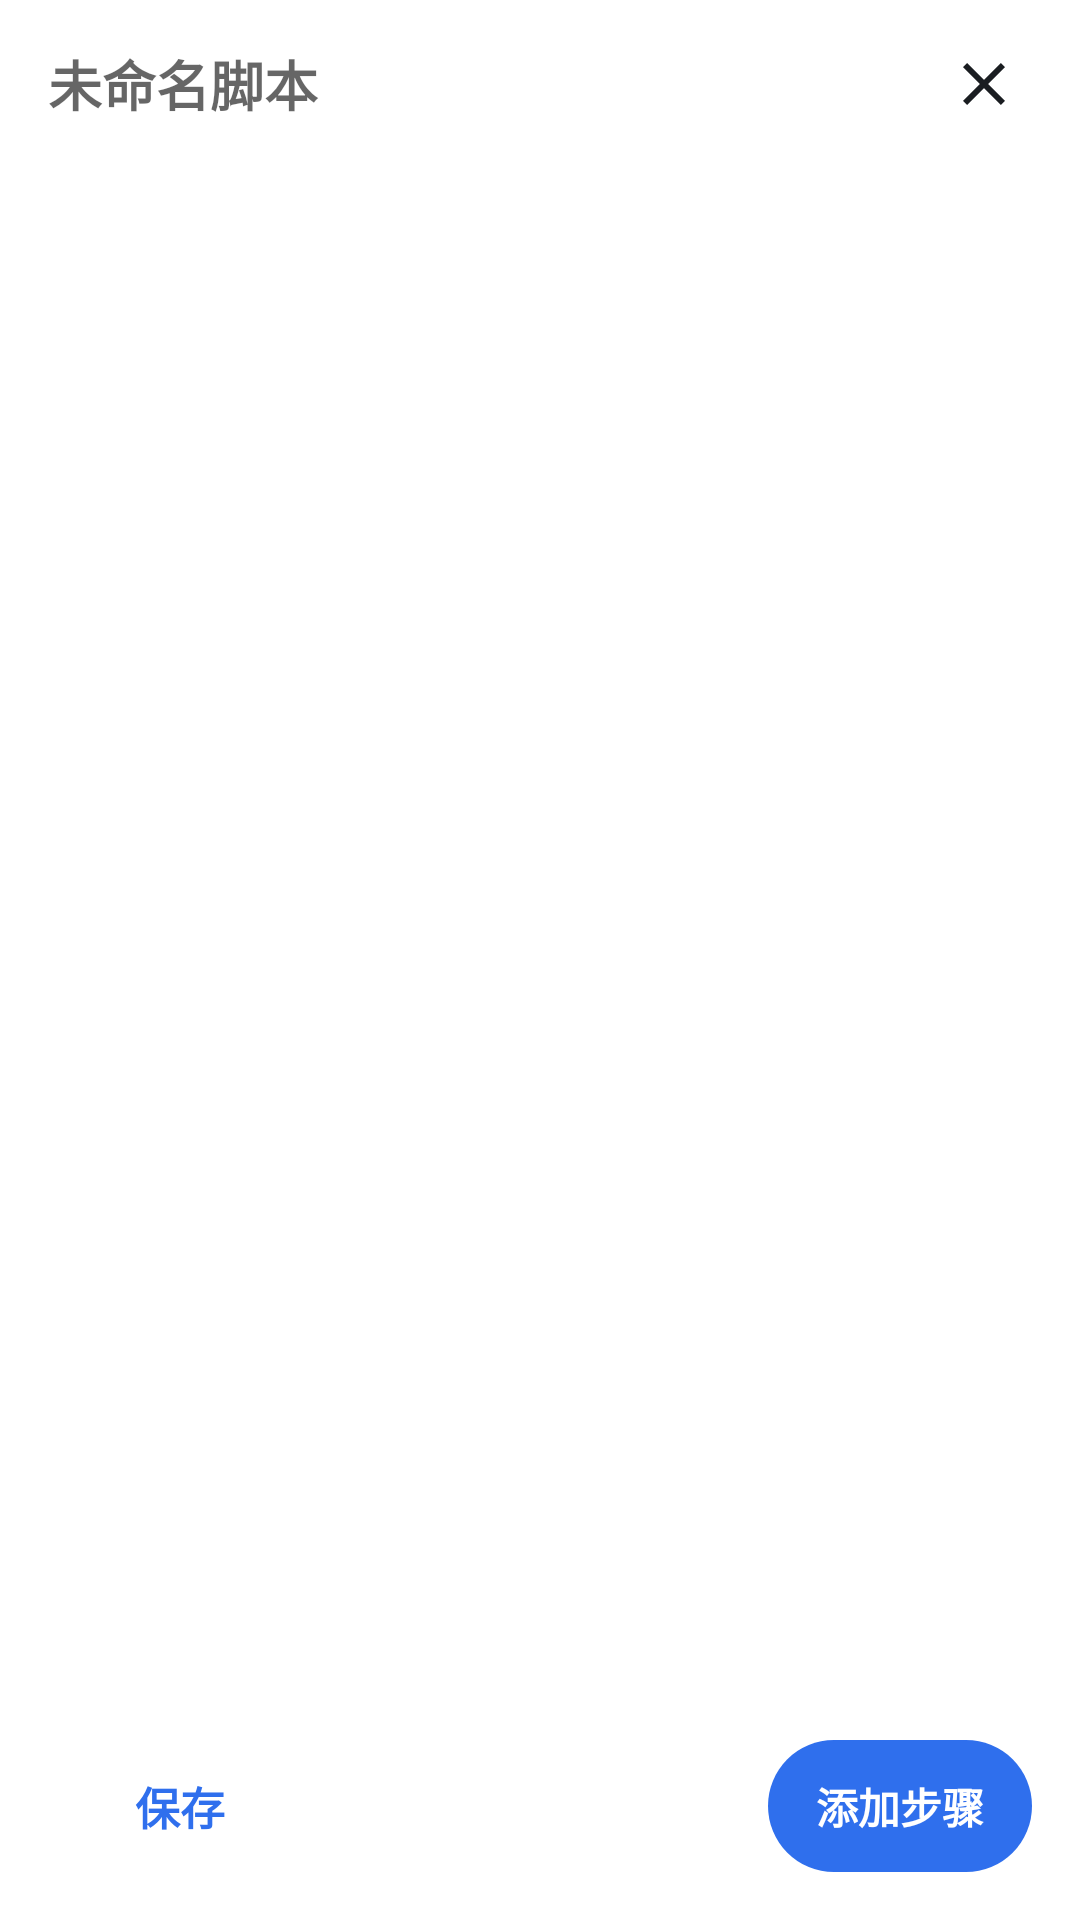

Named icons in this screenshot (1080*1920) and their centers, point (x, y):
返回: point (984, 84)
